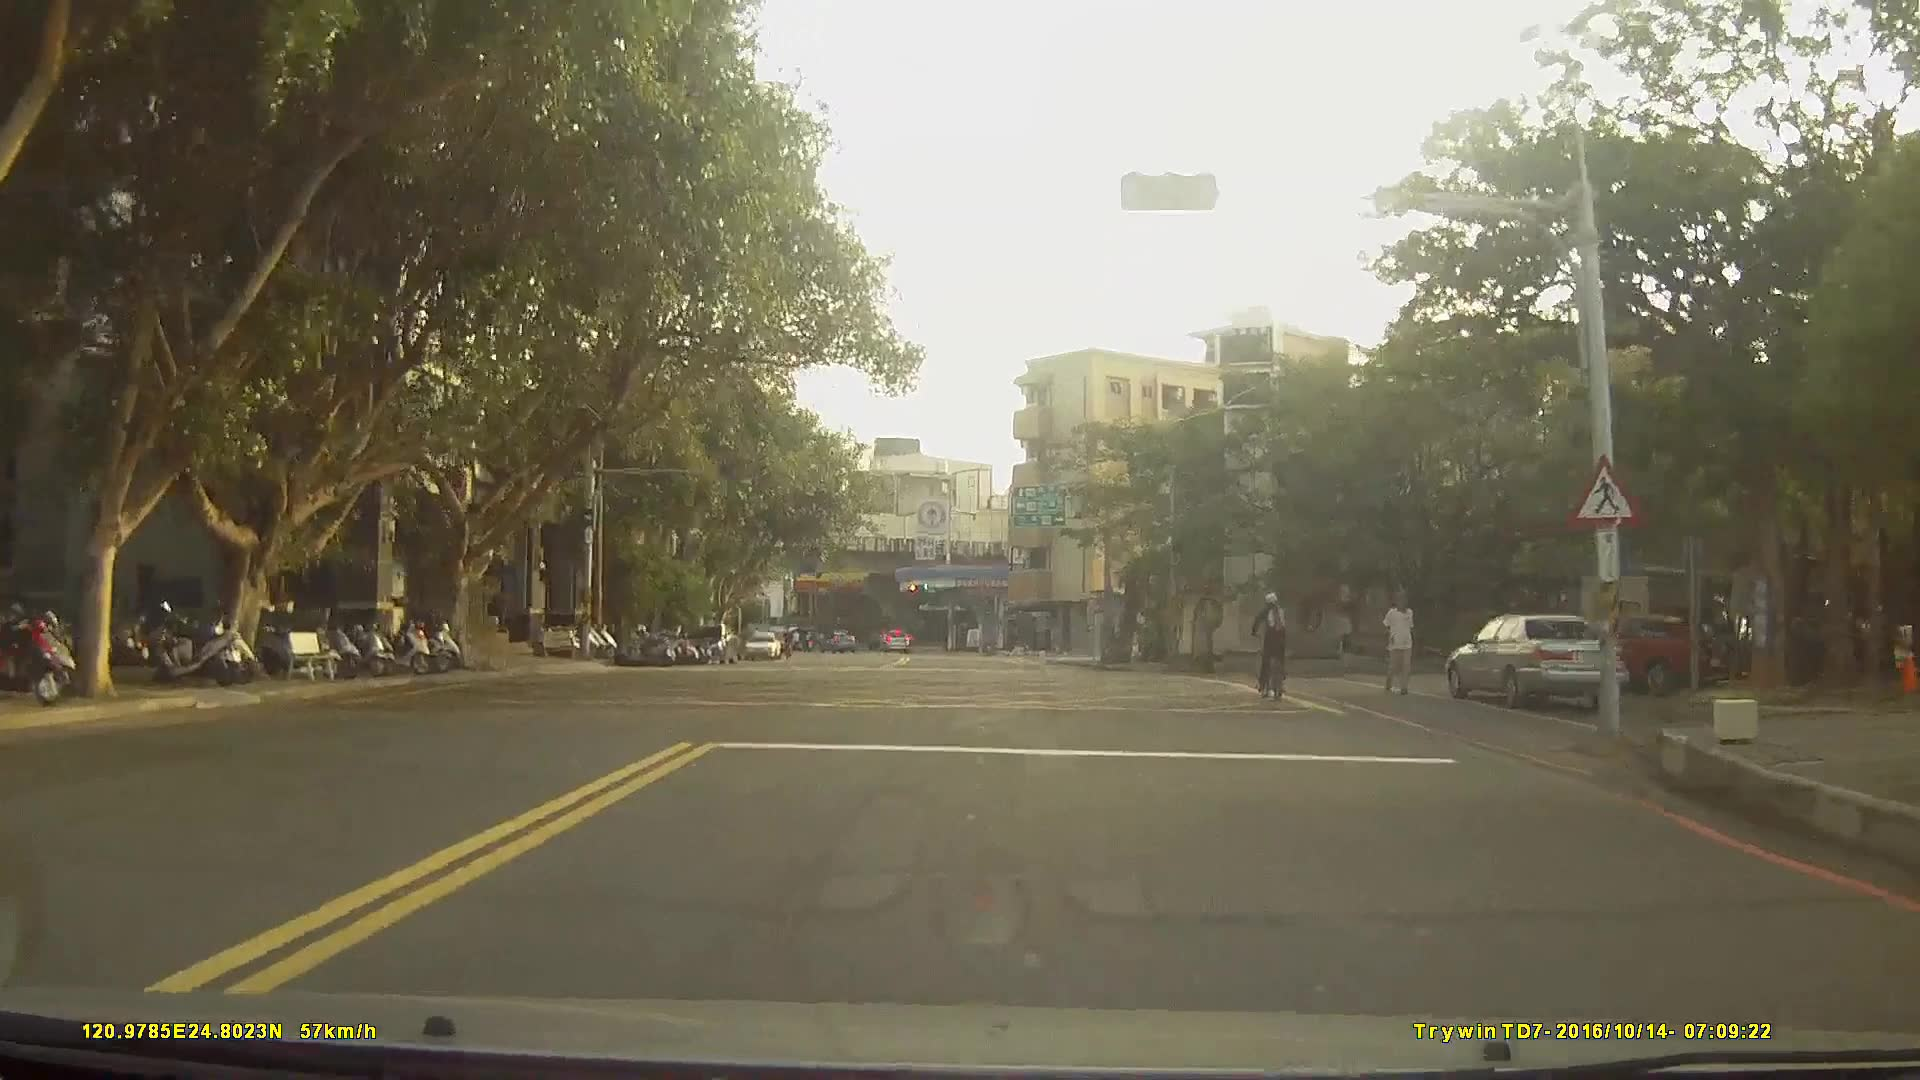pedestrian: (1379, 587, 1426, 697), (485, 597, 505, 647)
rider: (1252, 592, 1299, 702)
vehicle: (1444, 610, 1629, 708), (1561, 613, 1696, 697), (681, 623, 735, 669), (743, 628, 780, 660), (880, 627, 912, 653)
